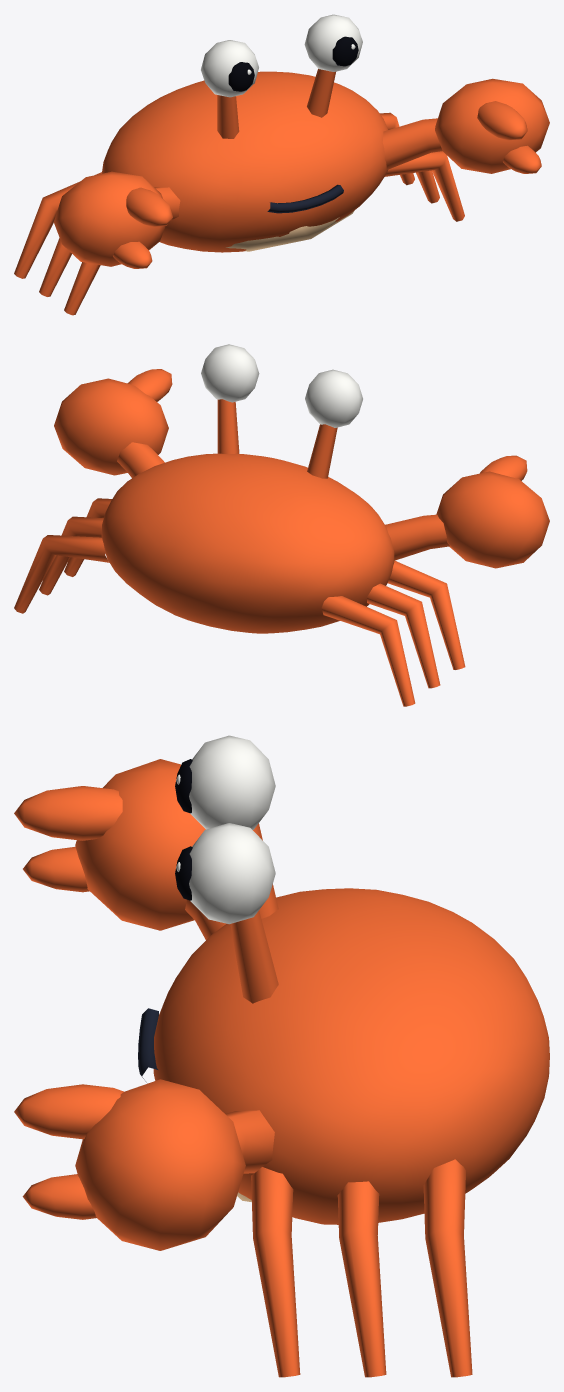
The model's file is crab.glb.
The picture shows the model from 3 angles, top to bottom: view 1: azimuth 30°, elevation 25°; view 2: azimuth 150°, elevation 25°; view 3: azimuth 270°, elevation 25°; orthographic projection. The views are drawn at different scales.
Parts seen in each view (by area): view 1: crab; view 2: crab; view 3: crab.
Boxes of the visible parts, x1,y1,x2,y2 form: crab: [14, 14, 549, 315]; crab: [14, 344, 549, 706]; crab: [14, 735, 549, 1377].
Size of the model in its own units: 2.22 by 1.11 by 1.24.
